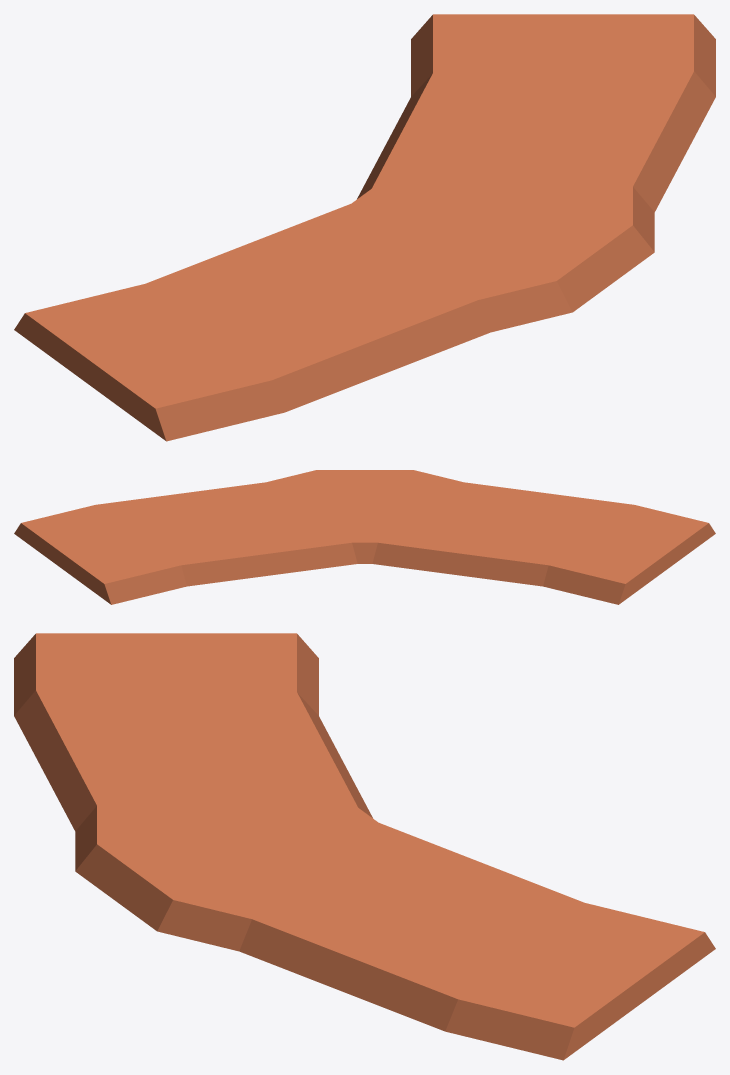
The model's file is path_corner.fbx.
3 views of the same model, one above another, from view 1: azimuth 30°, elevation 25°; view 2: azimuth 150°, elevation 25°; view 3: azimuth 270°, elevation 25° (orthographic). The views are drawn at different scales.
Parts seen in each view (by area): view 1: path_corner; view 2: path_corner; view 3: path_corner.
Part boxes in pixels (bbox=[...]): path_corner: bbox=[14, 14, 715, 441]; path_corner: bbox=[14, 470, 715, 604]; path_corner: bbox=[14, 633, 715, 1060].
Bounding box in the file's own units: 8.71 × 0.25 × 6.42.
